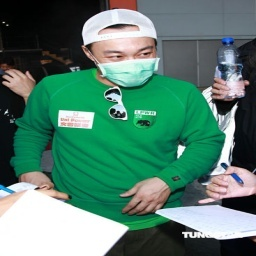correctlyWear: (81, 38, 159, 87)
